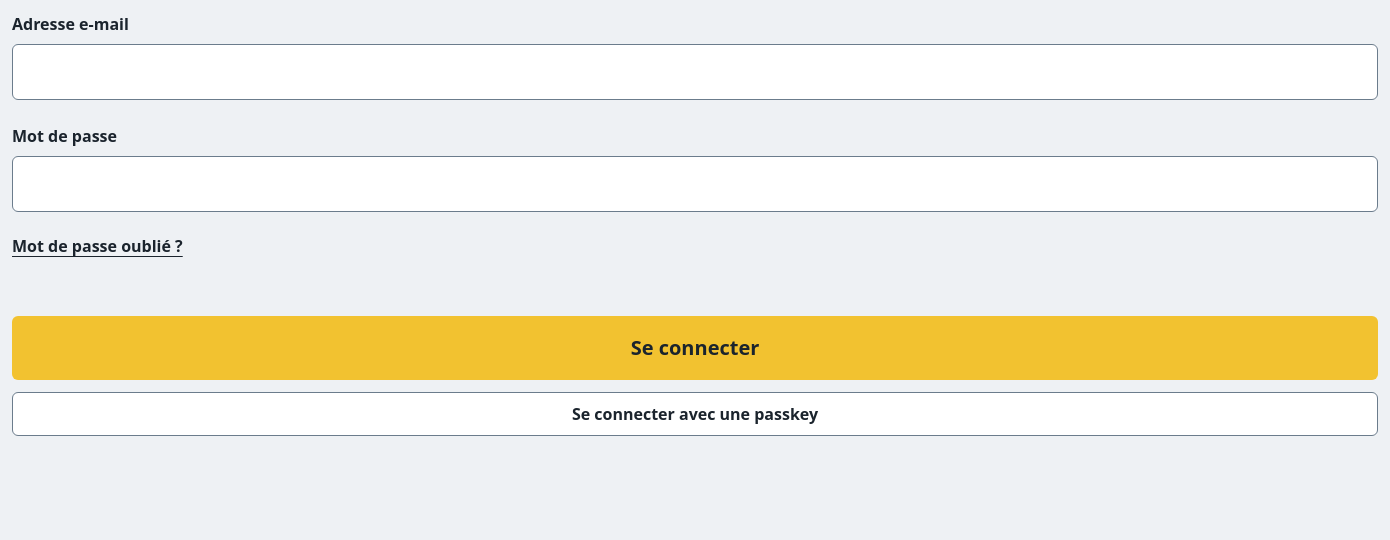
LoginForm, passkey › annonce une passkey inconnue sans quitter la page
Step 1. Click the button "Se connecter avec une passkey" → (695, 414), box [12,392,1378,436]
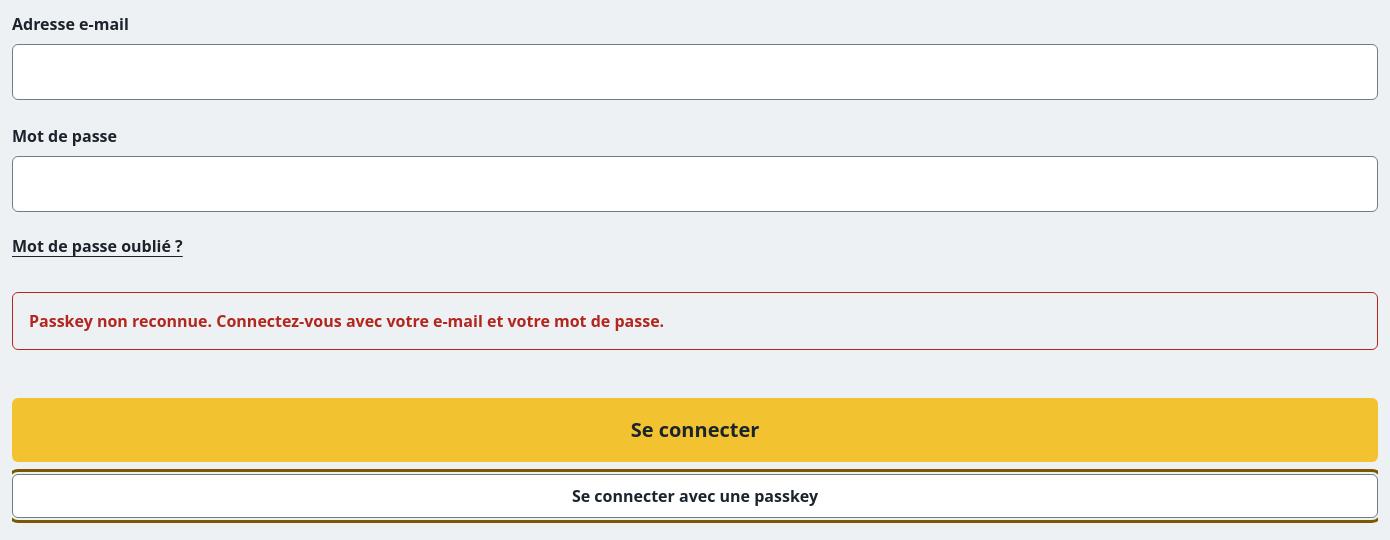
Expected: the message reads "Passkey non reconnue. Connectez-vous avec votre e-mail et votre mot de passe.", [29,310,664,332]
